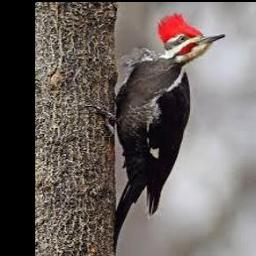Woodpecker: (85, 14, 224, 256)
